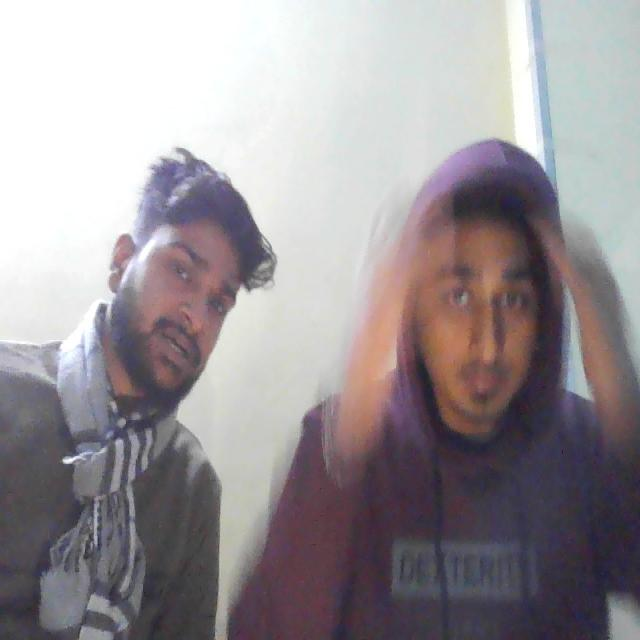real: (393, 128, 563, 449), (112, 156, 242, 403)
